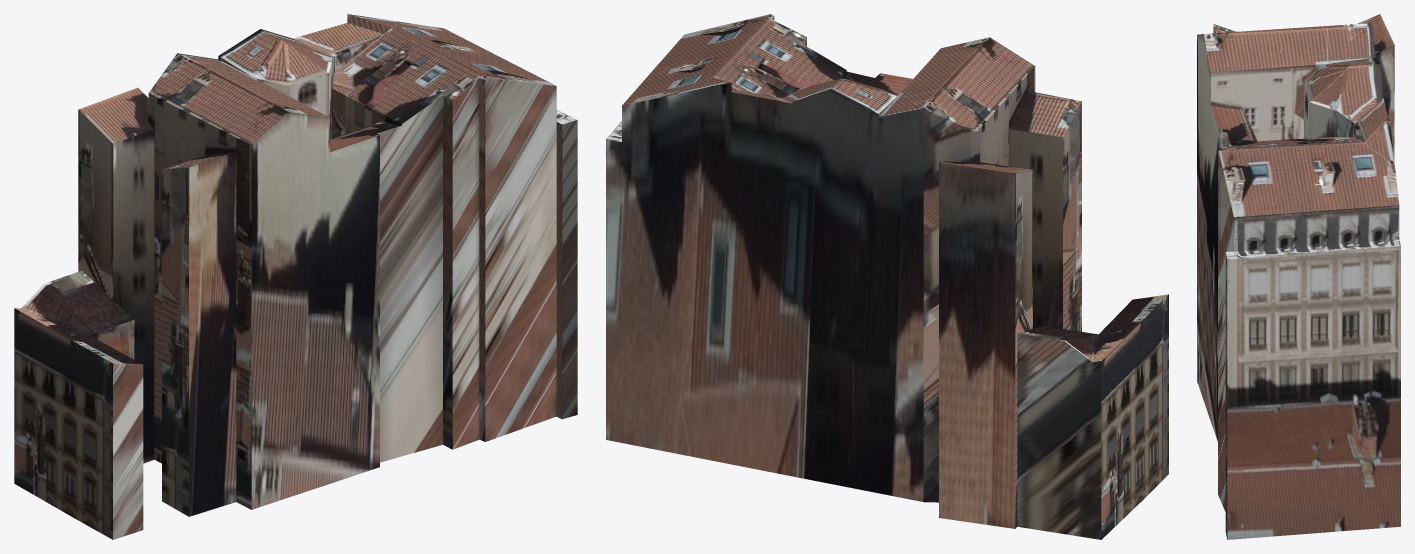
3 renders of one model, left to right at view 1: azimuth 30°, elevation 25°; view 2: azimuth 150°, elevation 25°; view 3: azimuth 270°, elevation 25°, orthographic. The views are drawn at different scales.
Visible parts, largest first — view 1: Z_UP; view 2: Z_UP; view 3: Z_UP.
Boxes of the visible parts, x1,y1,x2,y2 form: Z_UP: (14,14,577,539); Z_UP: (606,14,1168,539); Z_UP: (1197,14,1400,539).
Size of the model in its own units: 35.78 by 26.71 by 13.47.
Materials: 2 (1 with a texture image).
